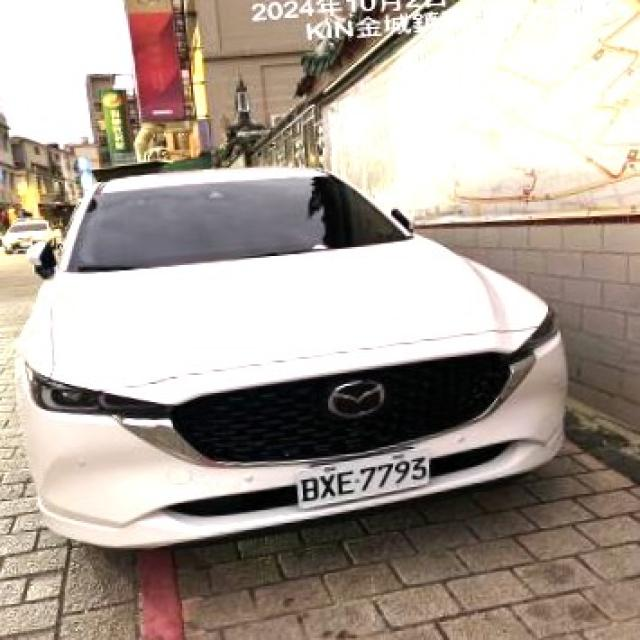illegalparking: (25, 167, 640, 574)
